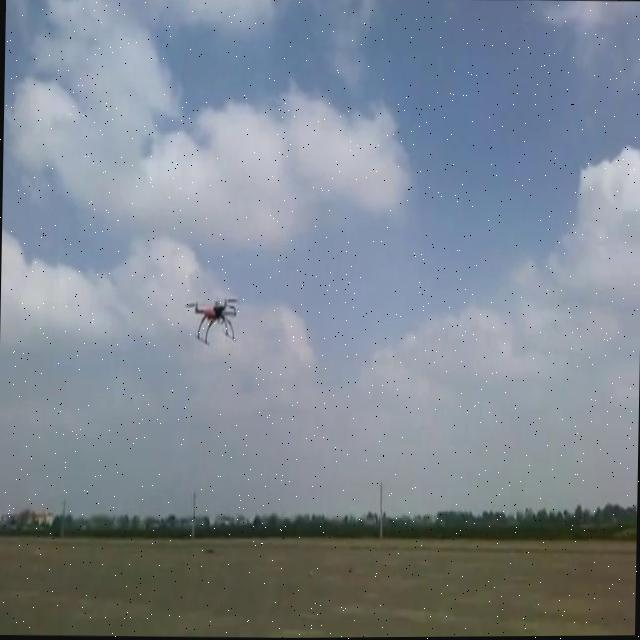drone: (186, 293, 236, 344)
